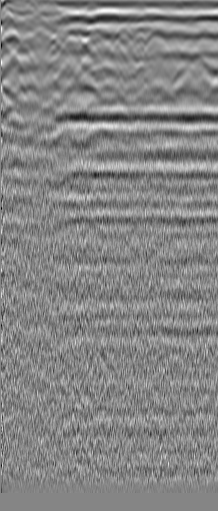오수: (29, 28, 49, 48)
우수: (172, 51, 210, 78)
